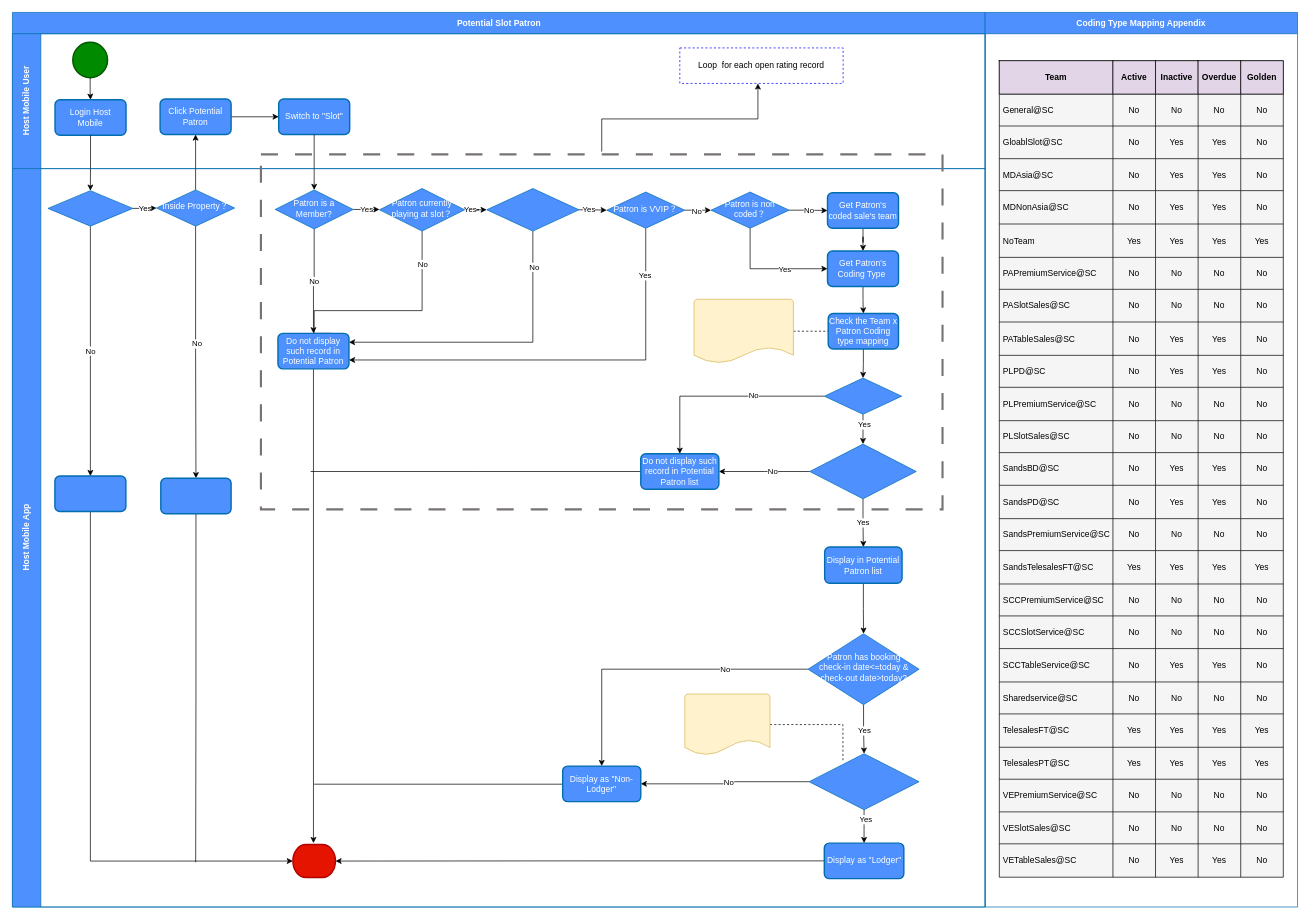
The diagram is 1310 pixels wide and 919 high, and some of its shapes have lost their labels. The shapes that lost their labels are listed below. From the top down, each one's centre as x and y in pixels, then its label:
At point 90,59: "START".
At point 90,208: "Inside Macau？".
At point 532,209: "Today‘s Gaming Points earn > x?".
At point 743,331: "Coding Type Mapping: 1.Active 2.Inactive 3.Overdue 4.Golden".
At point 863,395: "Allow to show？".
At point 862,471: "User's property includes Open rating's property？".
At point 90,493: "Not allow to access Host Mobile".
At point 195,495: "Not allow to access Potential Patron".
At point 727,724: "Lodger: LodgeStatus=true Non-Lodger: LodgeStatus=false".
At point 863,781: "Booking Status = Reserved or Checked in?".
At point 314,860: "END".
